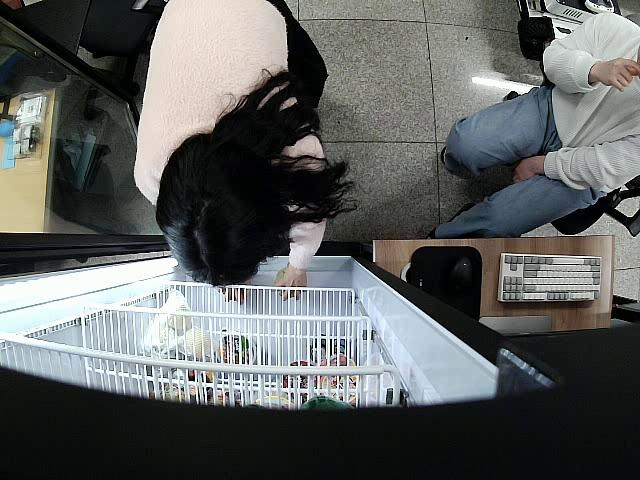00_hand: (593, 59, 640, 91), (270, 267, 308, 301)
04_chapagetti_S: (275, 268, 297, 300)
